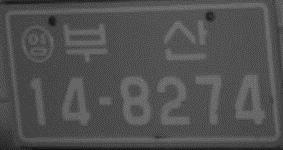-: (97, 93, 115, 109)
1: (26, 76, 52, 127)
2: (156, 75, 190, 127)
4: (232, 72, 267, 126), (59, 75, 91, 127)
7: (193, 73, 223, 126)
8: (119, 75, 152, 126)
부산_D: (61, 18, 210, 64)
영: (21, 24, 55, 65)
